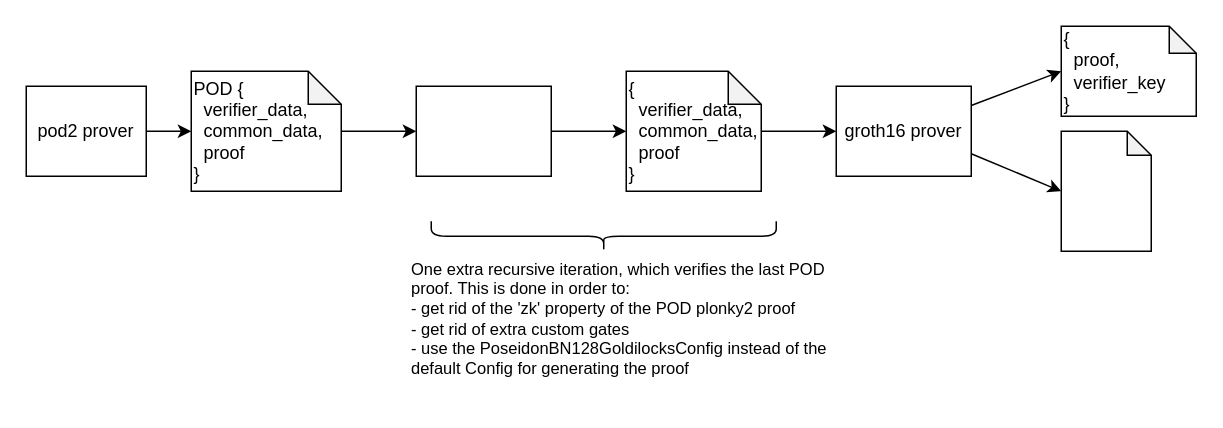
The diagram is 1223 pixels wide and 428 high, and some of its shapes have lost their labels. Here are the shapes that lost their labels. From the top down, the centre of each, then its label:
the point at 483,130: plonky2 prover
the point at 1105,190: Verifier.sol
